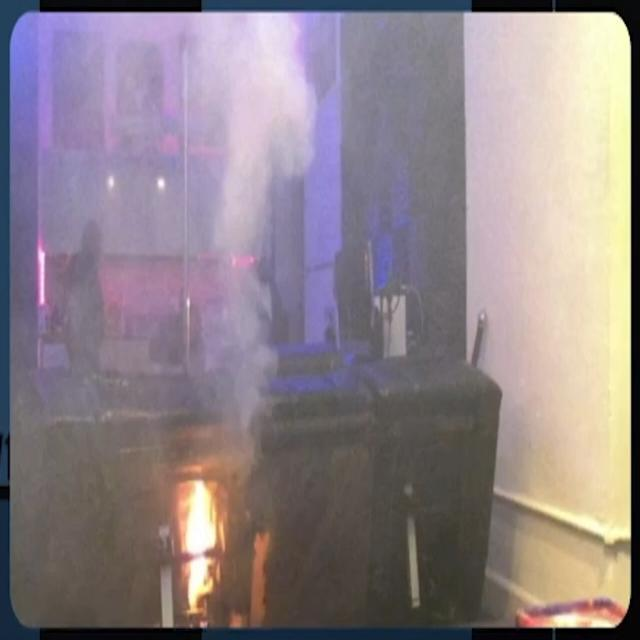Fire: (184, 485, 222, 601)
Smoke: (215, 25, 308, 457)
